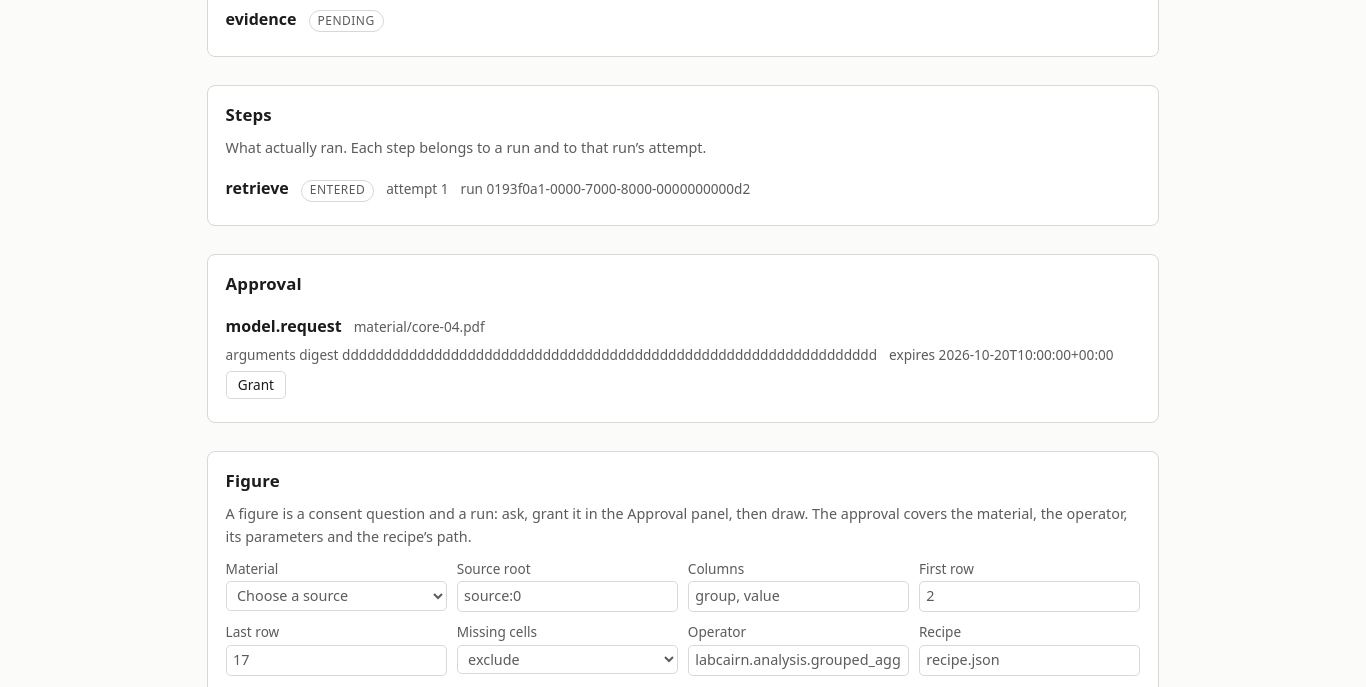
the changes the workbench makes › asks the service once, with the token in the header
(page scrolled)
Click the button "Grant".
click(256, 385)  # box [226,371,286,399]
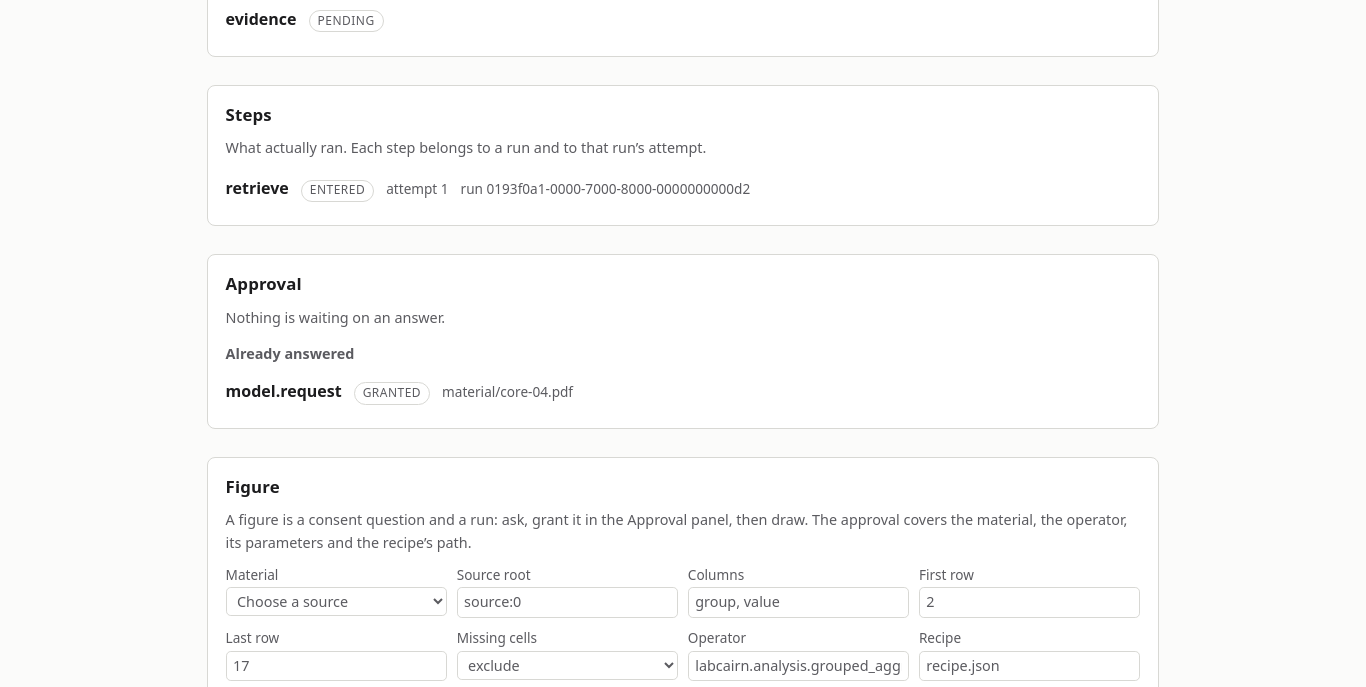
Result: the text "granted" is shown at [354,382,430,405]
